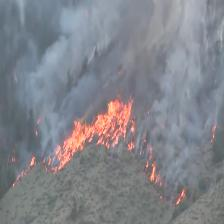fire: (27, 93, 163, 184)
smoke: (33, 5, 211, 86)
